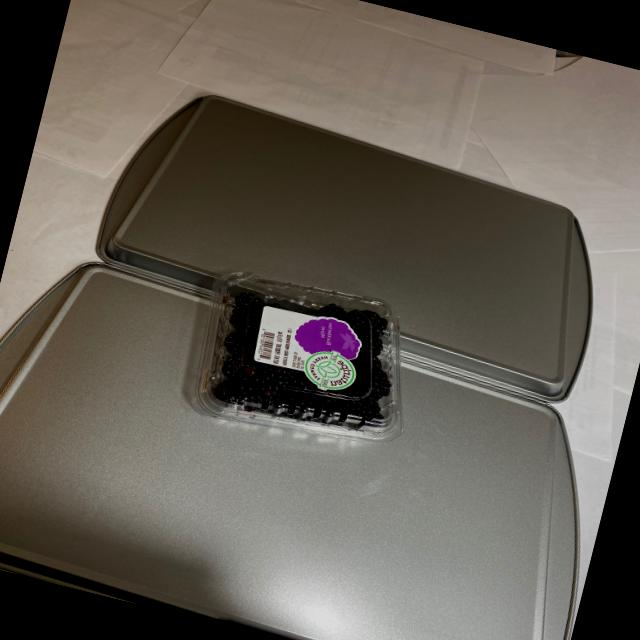blackberries: (184, 254, 423, 462)
